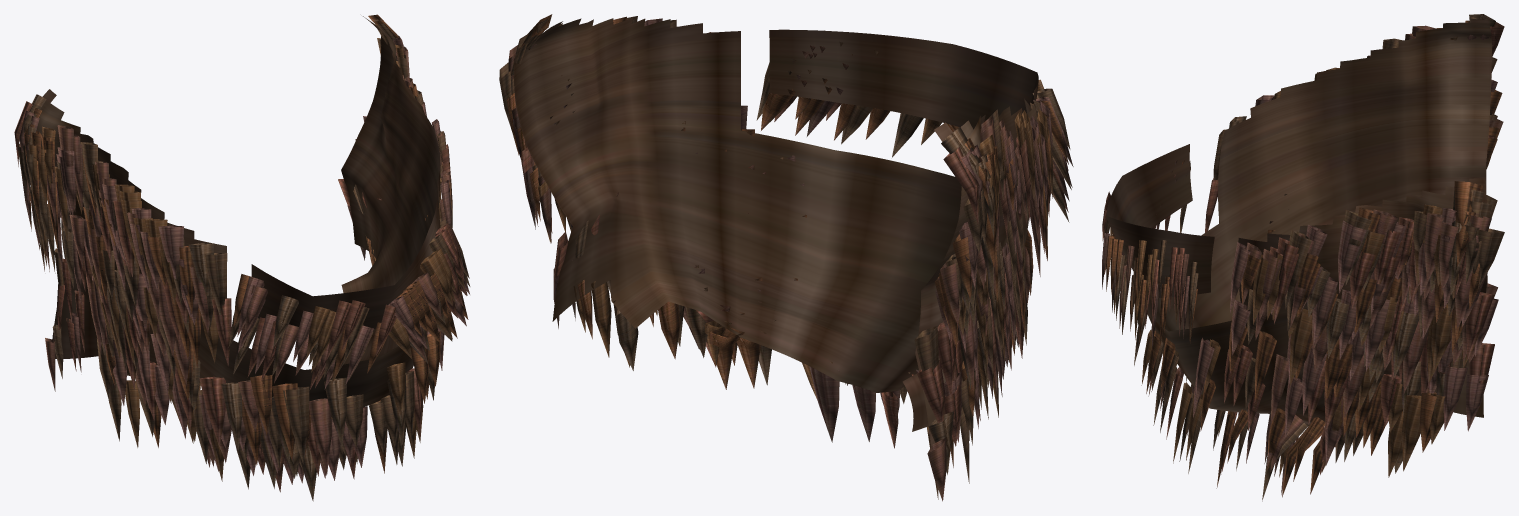
File: media.glb
The picture shows the model from 3 angles, left to right: view 1: azimuth 30°, elevation 25°; view 2: azimuth 150°, elevation 25°; view 3: azimuth 270°, elevation 25°; orthographic projection. The views are drawn at different scales.
Visible parts, largest first — view 1: barba_media; view 2: barba_media; view 3: barba_media.
Part boxes in pixels (box(x1,y1,x2,y2)): barba_media: box(14, 14, 470, 501); barba_media: box(499, 14, 1073, 501); barba_media: box(1102, 14, 1504, 501).
Bounding box in the file's own units: 0.1985 × 0.1839 × 0.1735.
1 material, 1 textured.
